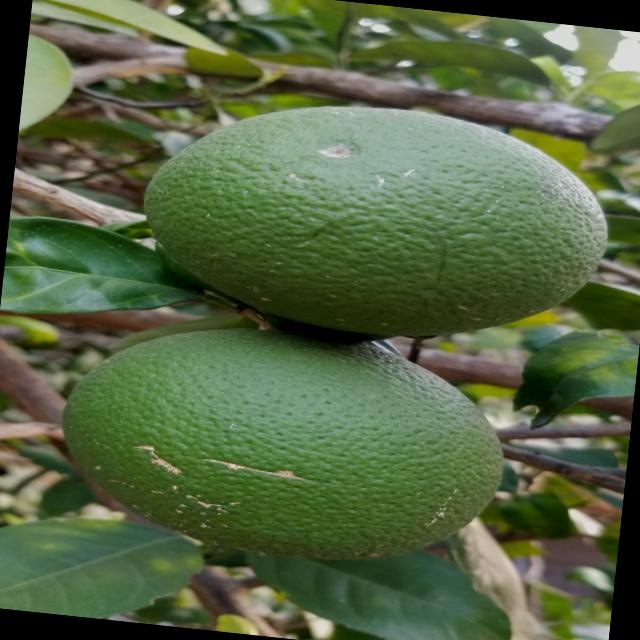agrume: (132, 86, 619, 353), (55, 309, 501, 578)
